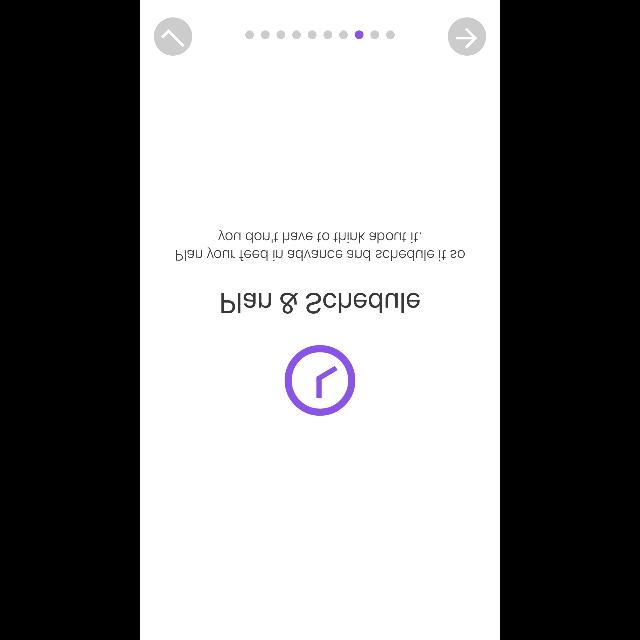icon: (284, 346, 356, 416), (448, 18, 486, 56), (154, 18, 192, 56)
pageindicator: (246, 31, 394, 39)
text: (176, 230, 464, 260), (221, 293, 419, 313)
